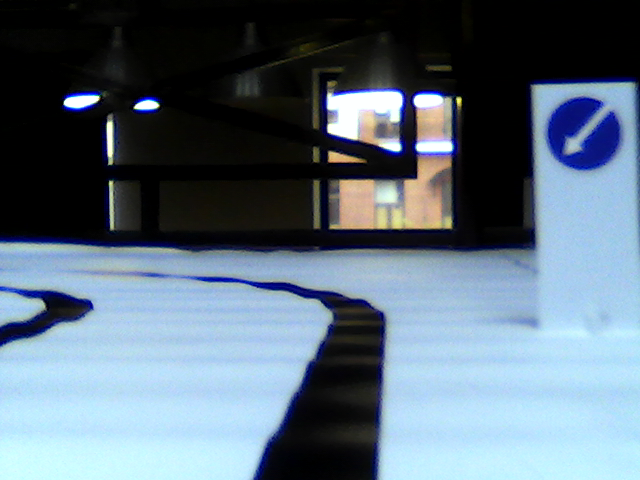prep: (548, 95, 618, 167)
